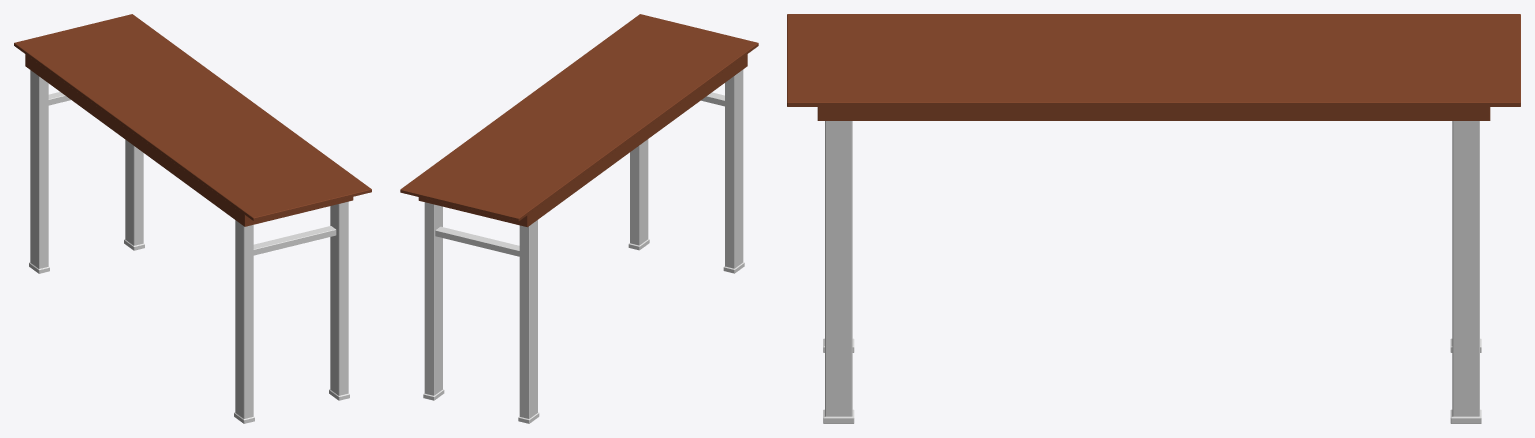
The model's file is Aula_EscritorioAlumno.fbx.
3 renders of one model, left to right at view 1: azimuth 30°, elevation 25°; view 2: azimuth 150°, elevation 25°; view 3: azimuth 270°, elevation 25°, orthographic. The views are drawn at different scales.
Visible parts, largest first — view 1: Aula_EscritorioAlumnos; view 2: Aula_EscritorioAlumnos; view 3: Aula_EscritorioAlumnos.
Part boxes in pixels (left/top/right/bottom): Aula_EscritorioAlumnos: left=14, top=14, right=371, bottom=423; Aula_EscritorioAlumnos: left=400, top=14, right=758, bottom=423; Aula_EscritorioAlumnos: left=787, top=14, right=1520, bottom=423.
Bounding box in the file's own units: 218 × 378 × 763.
